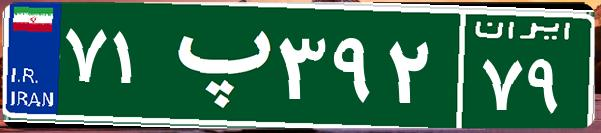1: (110, 28, 158, 105)
2: (385, 28, 445, 110)
3: (273, 28, 330, 110)
7: (57, 26, 110, 107), (475, 38, 525, 113)
9: (330, 28, 385, 110), (525, 38, 570, 115)
پ: (158, 15, 273, 115)
